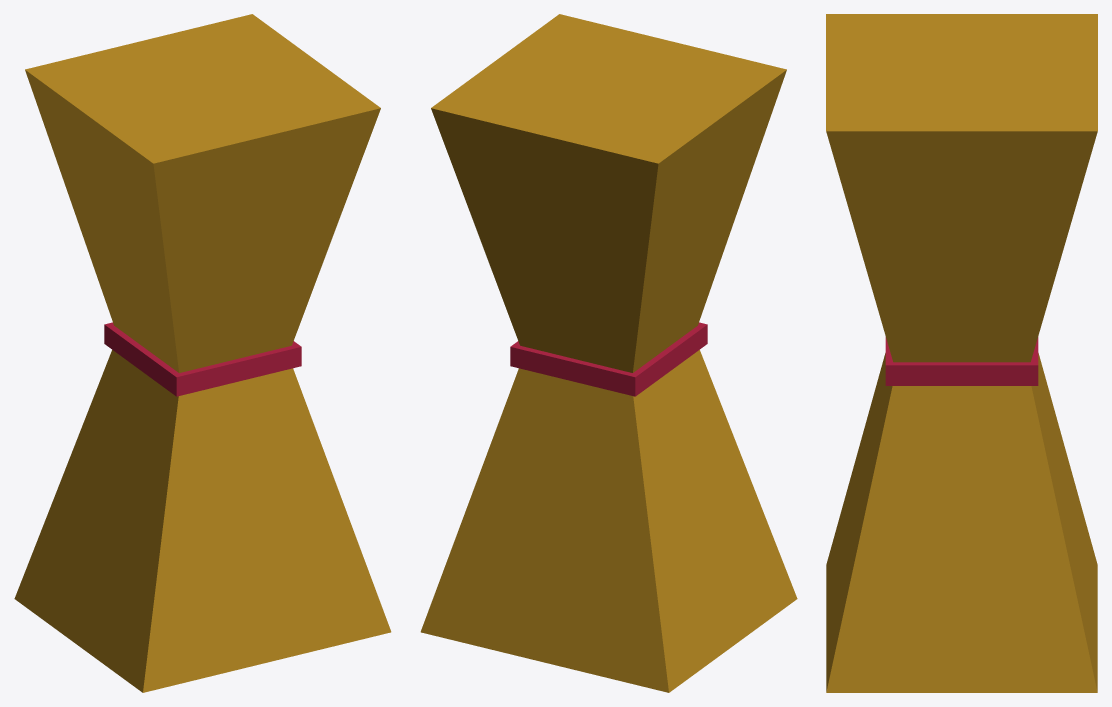
The model's file is henoEspecial.fbx.
3 renders of one model, left to right at view 1: azimuth 30°, elevation 25°; view 2: azimuth 150°, elevation 25°; view 3: azimuth 270°, elevation 25°, orthographic. The views are drawn at different scales.
Parts seen in each view (by area): view 1: Box001; view 2: Box001; view 3: Box001.
Part boxes in pixels (bbox=[...]): Box001: bbox=[14, 14, 391, 692]; Box001: bbox=[420, 14, 797, 692]; Box001: bbox=[826, 14, 1097, 692].
Size of the model in its own units: 0.3049 by 0.6172 by 0.2732.
